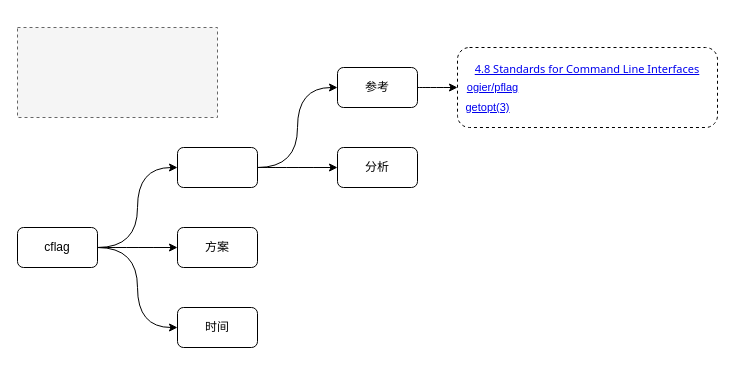
The diagram is 735 pixels wide and 365 high, and some of its shapes have lost their labels. The box of each missing label's shape, as (x1, y1, x2, y2) in pixels:
cflag cflag是用c++实现的命令参数解析库，功能类似go的 orier/pflag ；: (16, 26, 218, 118)
功能: (176, 146, 258, 188)
